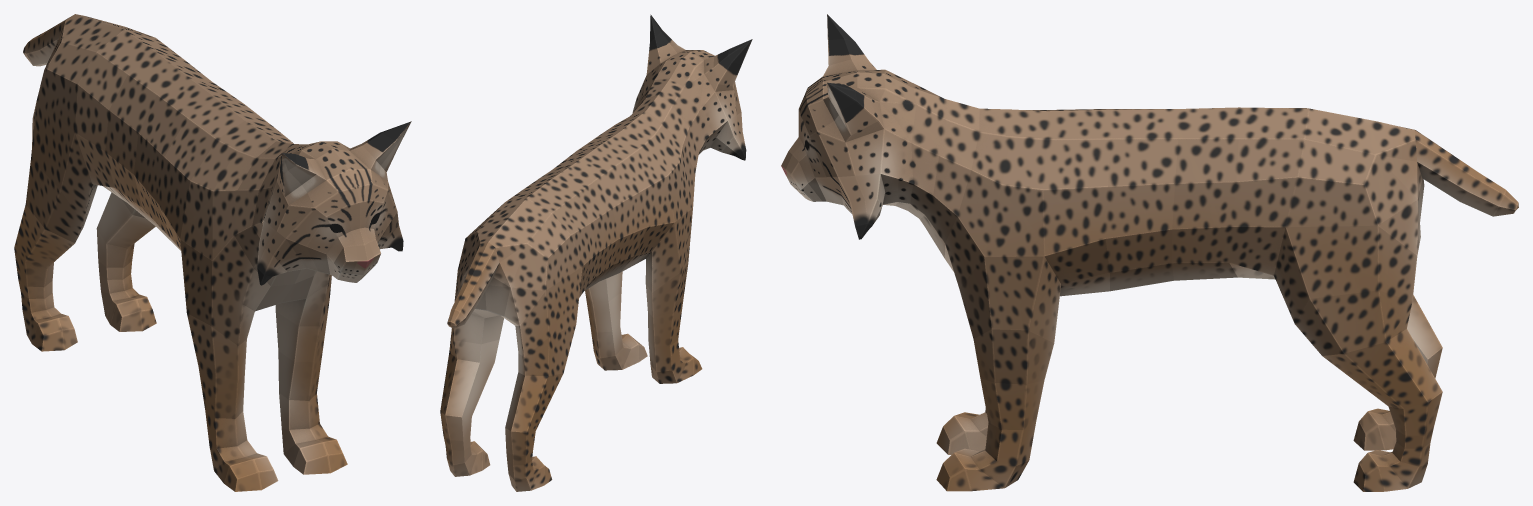
The model's file is 644ca50e-bad4-46c9-8493-4ac04279d06f.glb.
The picture shows the model from 3 angles, left to right: view 1: azimuth 30°, elevation 25°; view 2: azimuth 150°, elevation 25°; view 3: azimuth 270°, elevation 25°; orthographic projection. The views are drawn at different scales.
Parts seen in each view (by area): view 1: Bobcat_mesh; view 2: Bobcat_mesh; view 3: Bobcat_mesh.
Boxes of the visible parts, x1=… form: Bobcat_mesh: x1=14, y1=14, x2=411, y2=491; Bobcat_mesh: x1=440, y1=14, x2=752, y2=491; Bobcat_mesh: x1=781, y1=14, x2=1518, y2=491.
Bounding box in the file's own units: 1.56 × 3.97 × 6.43.
Materials: 1 (1 with a texture image).
